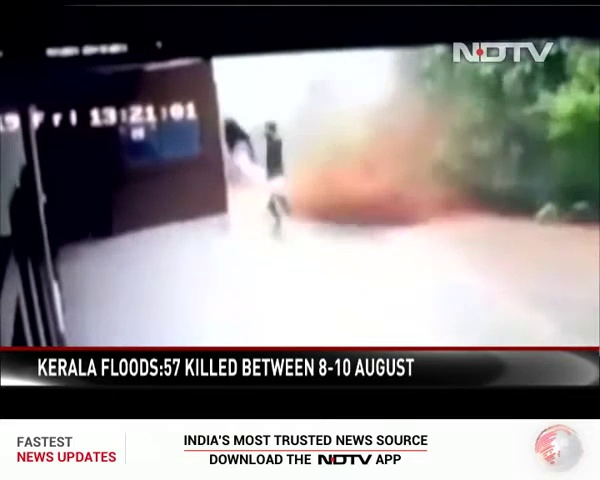person: (259, 121, 300, 240)
